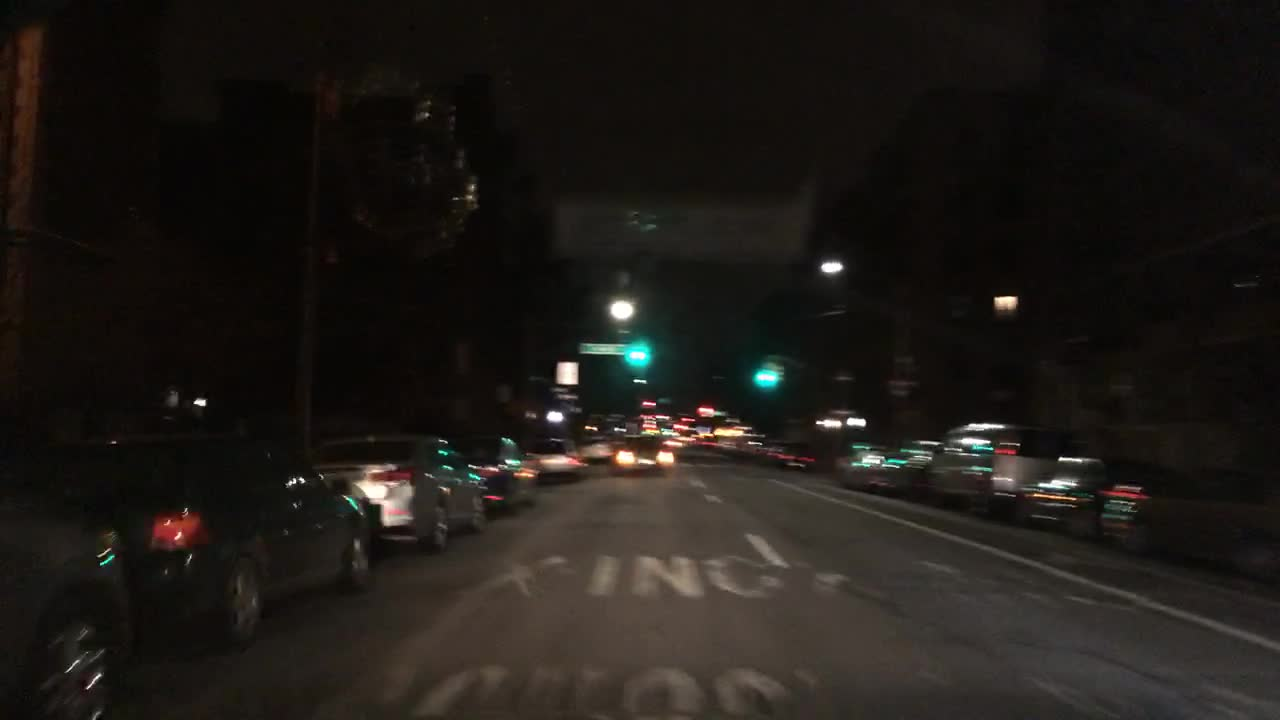car: (47, 434, 376, 642), (0, 477, 138, 715), (309, 430, 484, 543), (928, 420, 1056, 519), (476, 435, 536, 516), (870, 440, 936, 494), (614, 431, 676, 475), (833, 445, 879, 494), (526, 437, 582, 475), (702, 410, 747, 445), (771, 442, 816, 474), (673, 408, 714, 442), (582, 428, 615, 458), (735, 431, 759, 457), (634, 413, 665, 433)
traffic light: (762, 357, 773, 388), (631, 332, 641, 359), (775, 359, 785, 386)
traffic sign: (580, 344, 627, 354), (557, 361, 577, 384)
